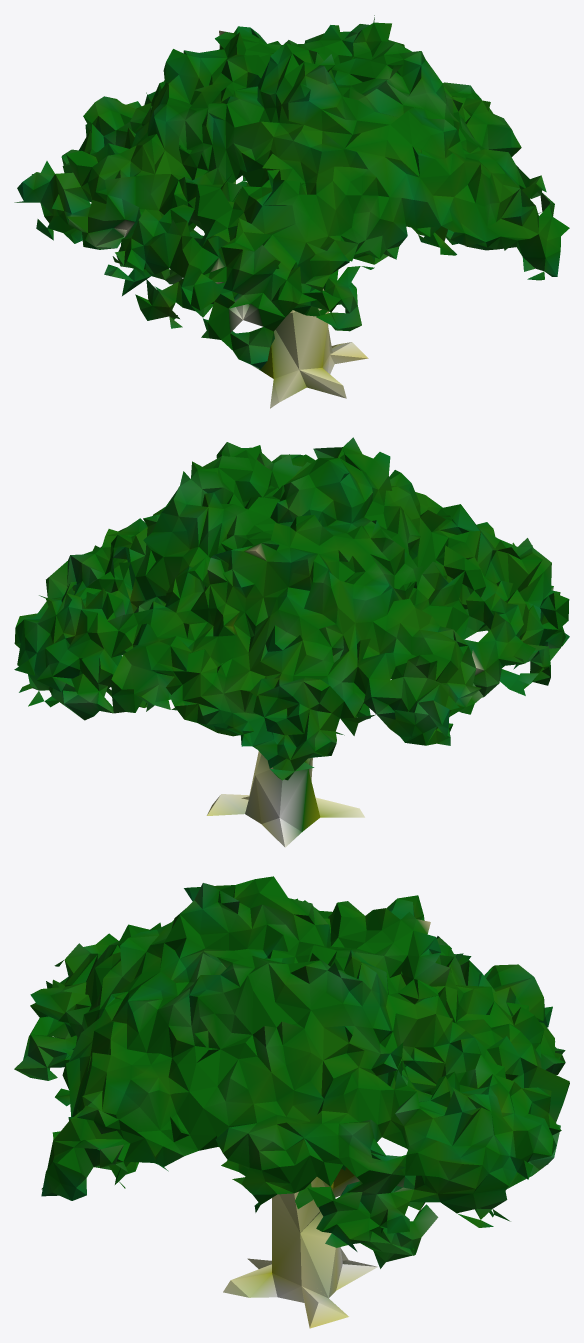
The model's file is tree-live-oak.glb.
3 renders of one model, top to bottom at view 1: azimuth 30°, elevation 25°; view 2: azimuth 150°, elevation 25°; view 3: azimuth 270°, elevation 25°, orthographic. The views are drawn at different scales.
Parts seen in each view (by area): view 1: geometry_0; view 2: geometry_0; view 3: geometry_0.
Boxes of the visible parts, x1,y1,x2,y2 form: geometry_0: (14,15,569,408); geometry_0: (14,437,569,847); geometry_0: (14,876,569,1328).
Size of the model in its own units: 1.96 by 1.5 by 1.89.
